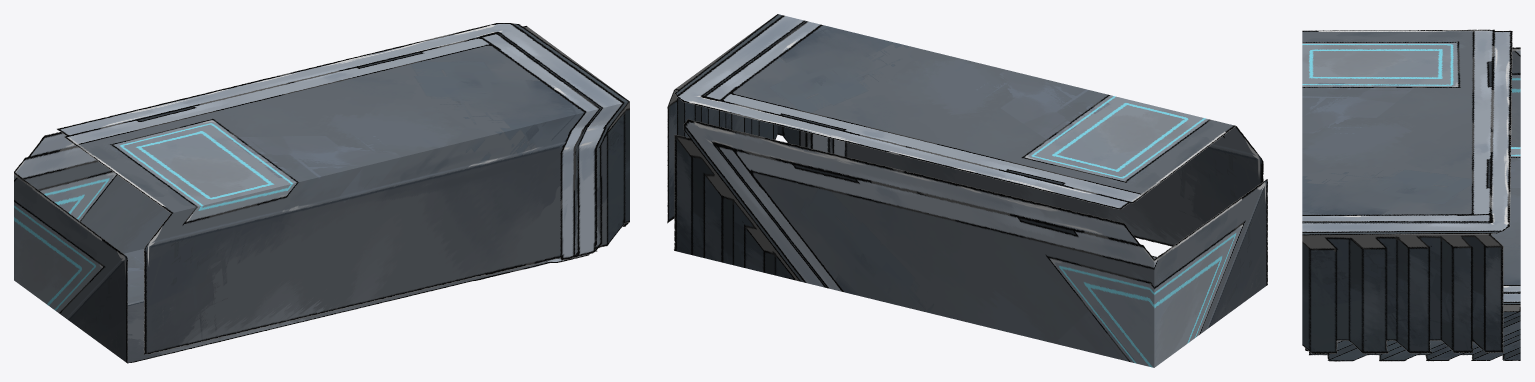
The model's file is B-4build3.fbx.
3 views of the same model, side by side, from view 1: azimuth 30°, elevation 25°; view 2: azimuth 150°, elevation 25°; view 3: azimuth 270°, elevation 25° (orthographic). The views are drawn at different scales.
Visible parts, largest first — view 1: 立方体.001; view 2: 立方体.001; view 3: 立方体.001.
Part boxes in pixels (bbox=[...]): 立方体.001: bbox=[14, 23, 629, 363]; 立方体.001: bbox=[667, 14, 1267, 367]; 立方体.001: bbox=[1302, 29, 1520, 361].
Size of the model in its own units: 2335 by 654 by 974.
